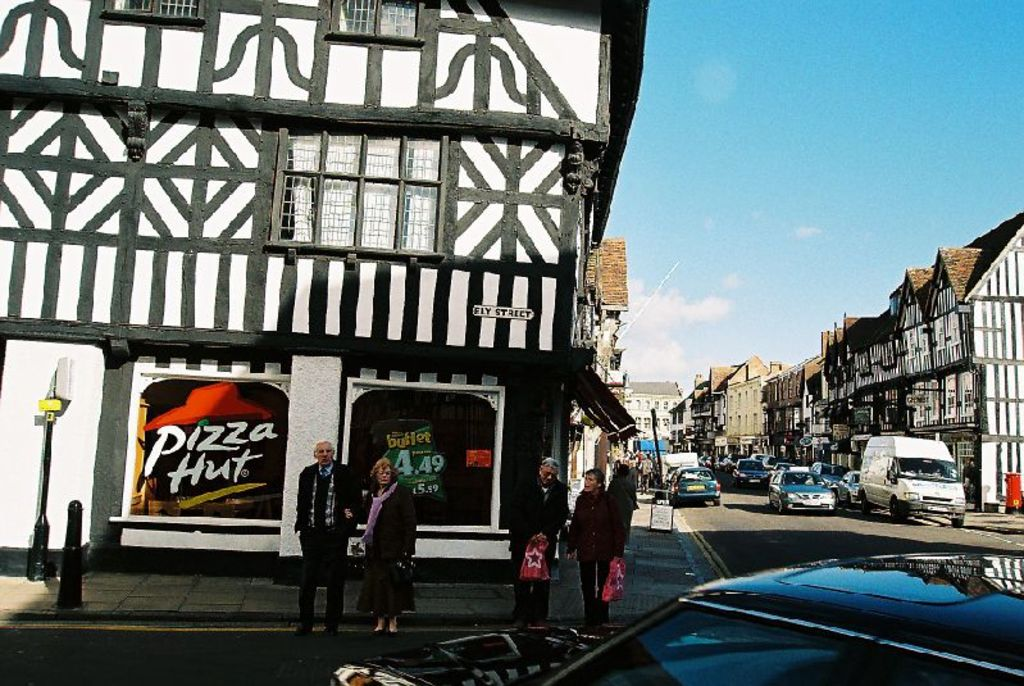Car: (329, 550, 1022, 684), (765, 465, 834, 511), (668, 465, 717, 498), (733, 459, 768, 483)
